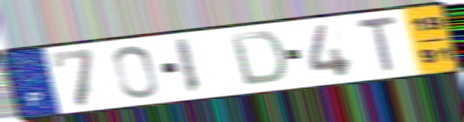0: (110, 43, 162, 101)
4: (306, 21, 355, 80)
7: (48, 46, 99, 109)
D: (226, 29, 289, 88)
I: (171, 36, 204, 97)
T: (353, 14, 401, 75)
